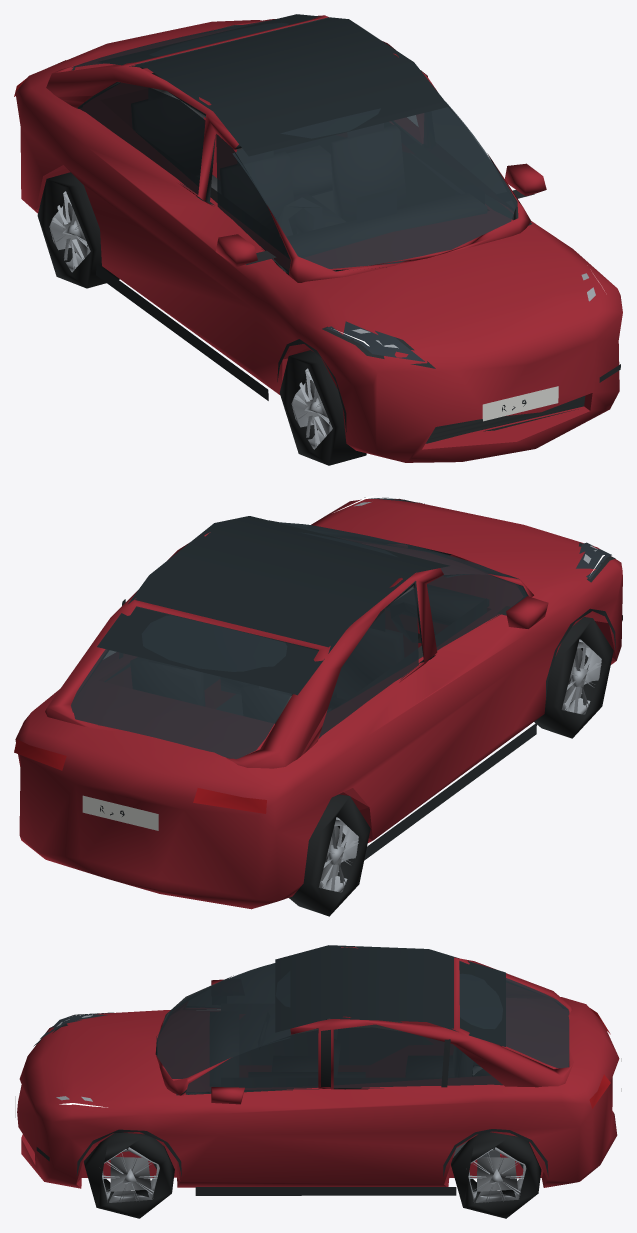
3 renders of one model, top to bottom at view 1: azimuth 30°, elevation 25°; view 2: azimuth 150°, elevation 25°; view 3: azimuth 270°, elevation 25°, orthographic. The views are drawn at different scales.
Parts seen in each view (by area): view 1: body, glazing_windscreen, glazing_rear-1, wheel_FL, wheel_RL, glazing_front-1, glazing_rear_glass; view 2: body, glazing_rear_glass, glazing_rear-1, wheel_RL, wheel_FL, glazing_front-1, glazing_windscreen; view 3: body, glazing_windscreen, glazing_rear1, glazing_rear_glass, wheel_RR, wheel_FR, glazing_front1.
Part boxes in pixels (x1,y1,x2,y2): body: (14,14,622,462); glazing_windscreen: (232,102,516,268); glazing_rear-1: (79,82,205,194); wheel_FL: (279,350,366,465); wheel_RL: (37,172,119,288); glazing_front-1: (216,134,290,273); glazing_rear_glass: (71,20,288,67); body: (14,494,622,909); glazing_rear_glass: (71,615,291,758); glazing_rear-1: (318,587,418,738); wheel_RL: (289,794,370,916); wheel_FL: (534,617,613,738); glazing_front-1: (427,574,526,650); glazing_windscreen: (275,522,512,577); body: (15,945,621,1195); glazing_windscreen: (156,963,290,1078); glazing_rear1: (333,1027,502,1088); glazing_rear_glass: (459,973,569,1068); wheel_RR: (451,1132,541,1218); wheel_FR: (83,1132,174,1218); glazing_front1: (186,1030,318,1093).
Bounding box in the file's own units: 2.14 × 1.63 × 4.8.
